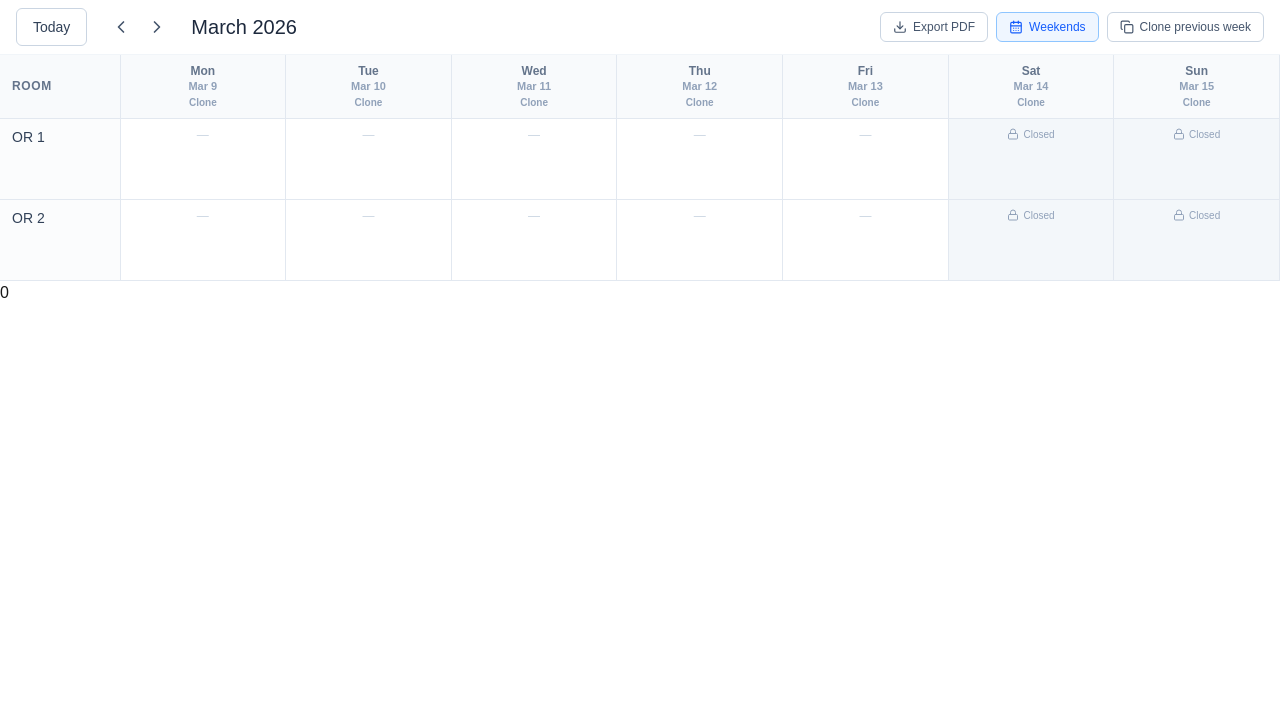
Test: Clone Workflow Tests (Phase 8) › Workflow: Combined clone operations › user can clone week, then clone individual day in same session
The image size is (1280, 720).
// Clone week
Click the button "Clone previous week": (1185, 27) [1107, 12, 1264, 42]
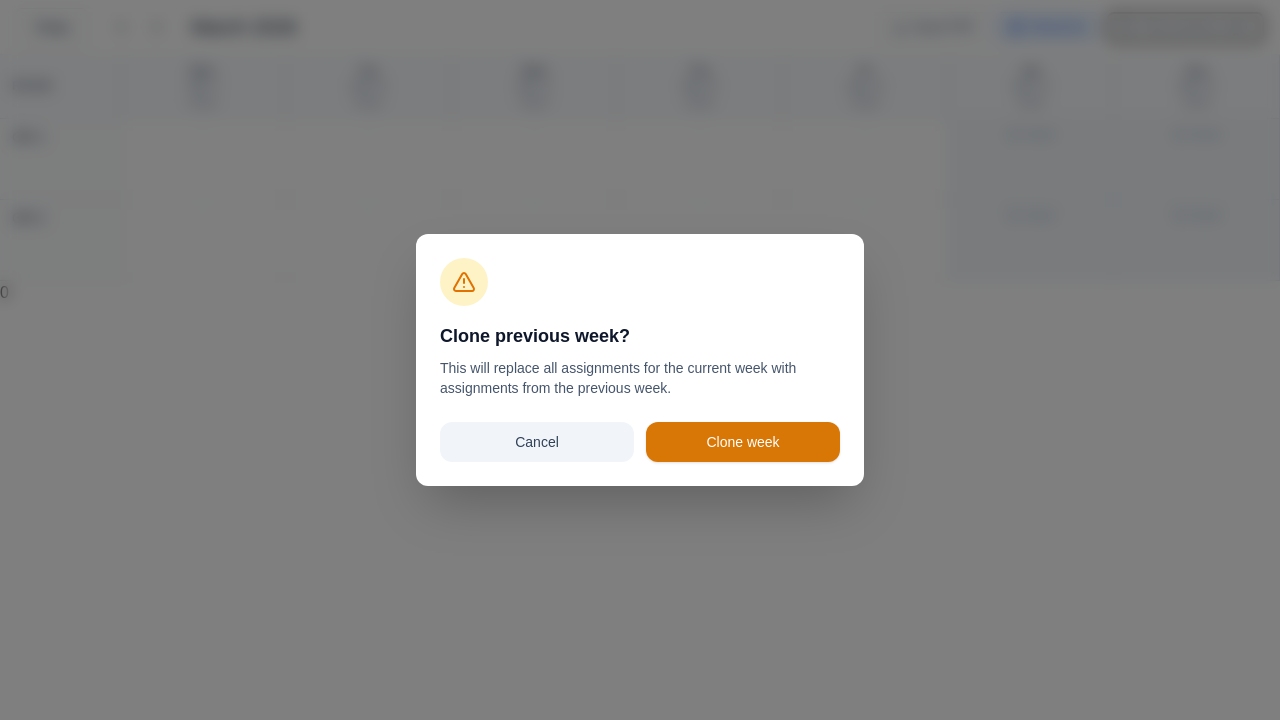
Check: the button "Clone week" is shown
Click the button "Clone week": (743, 442) [646, 422, 840, 462]
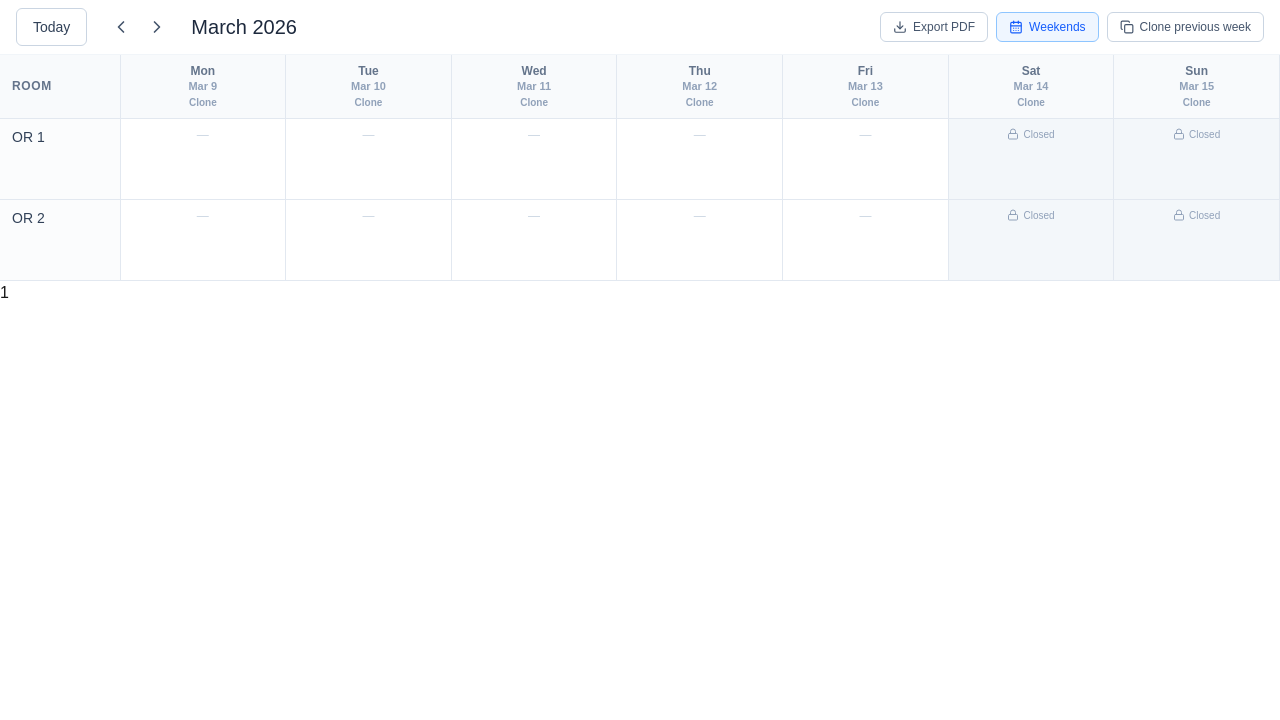
Check: the text with test id "refresh-counter" reads "1", box [0, 284, 9, 301]
Click the button "Clone" below "Mar 11": (534, 102) [520, 96, 548, 109]
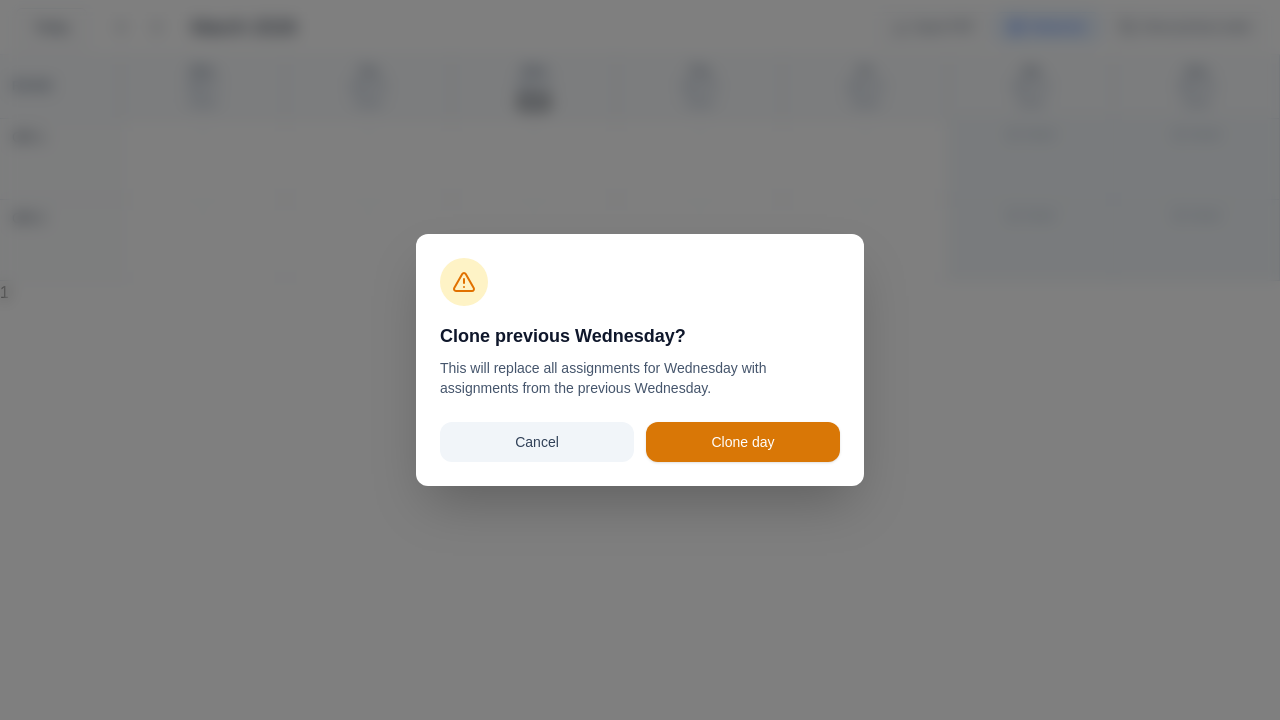
Check: the button "Clone day" is shown
Click the button "Clone day": (743, 442) [646, 422, 840, 462]
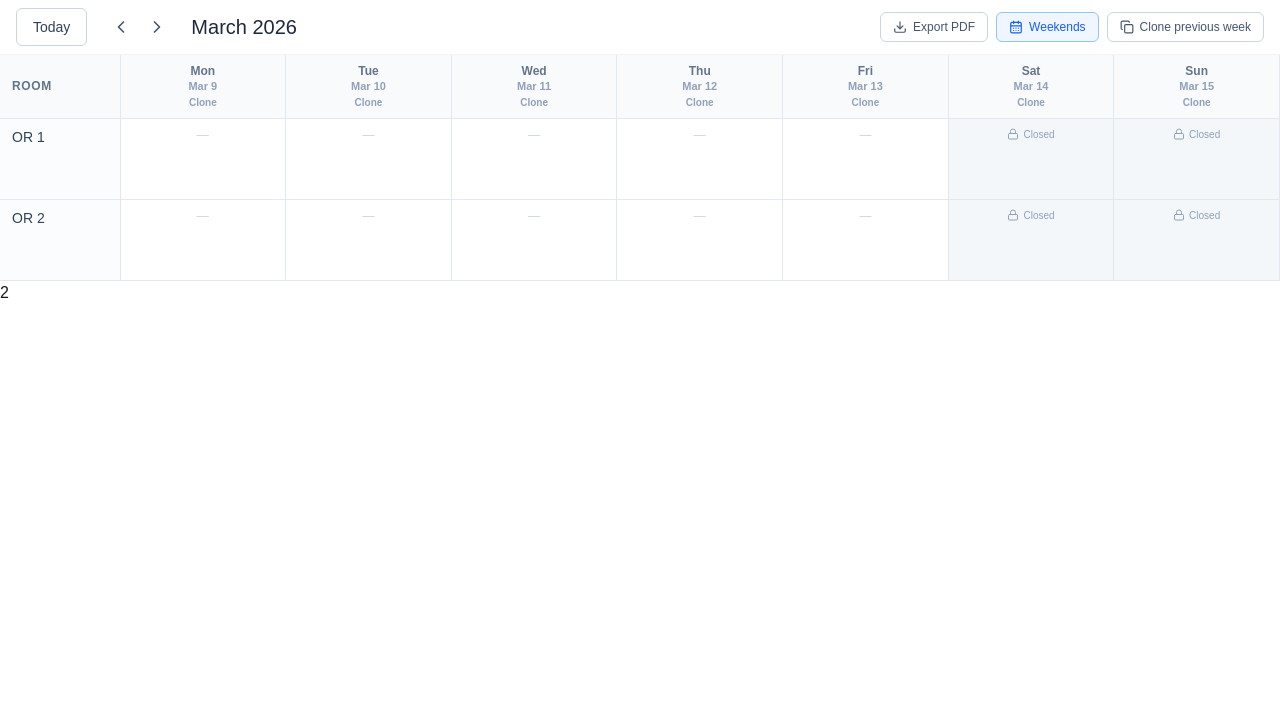
Check: the text with test id "refresh-counter" reads "2", box [0, 284, 9, 301]
